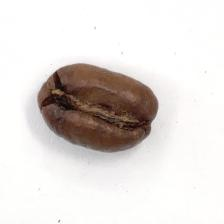NG: (52, 73, 149, 138)
